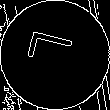L_E: (27, 34, 83, 76)
